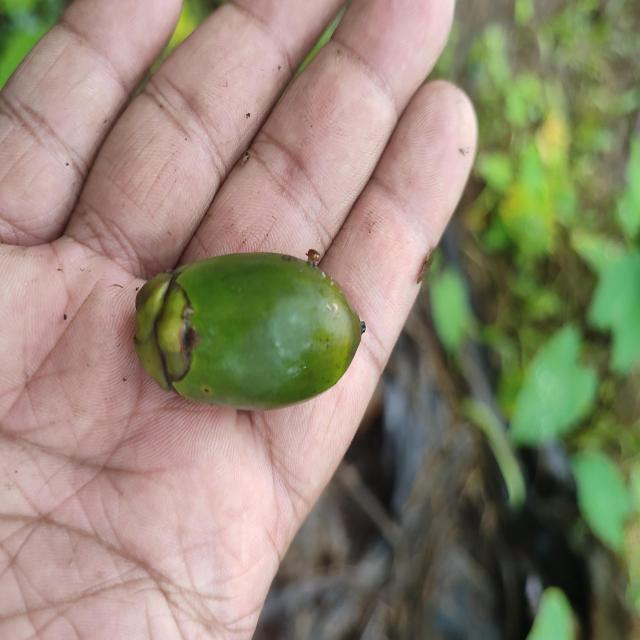damaged: (132, 252, 367, 413)
